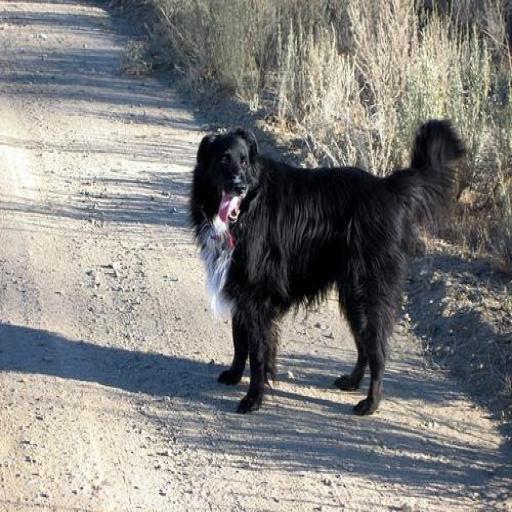dog_face: (193, 120, 265, 227)
